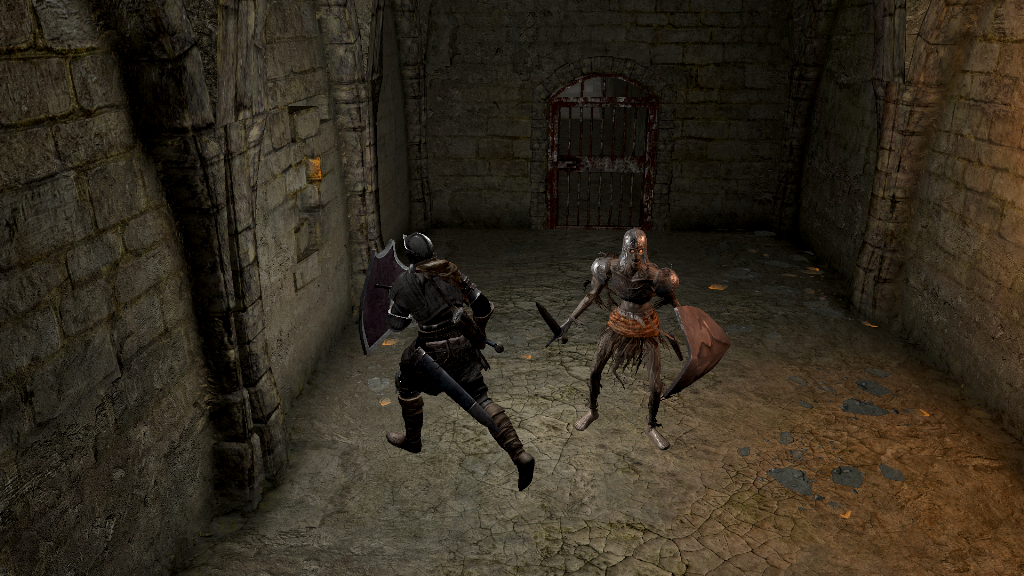player: (360, 233, 538, 492)
undeadSoldier: (560, 225, 731, 452)
